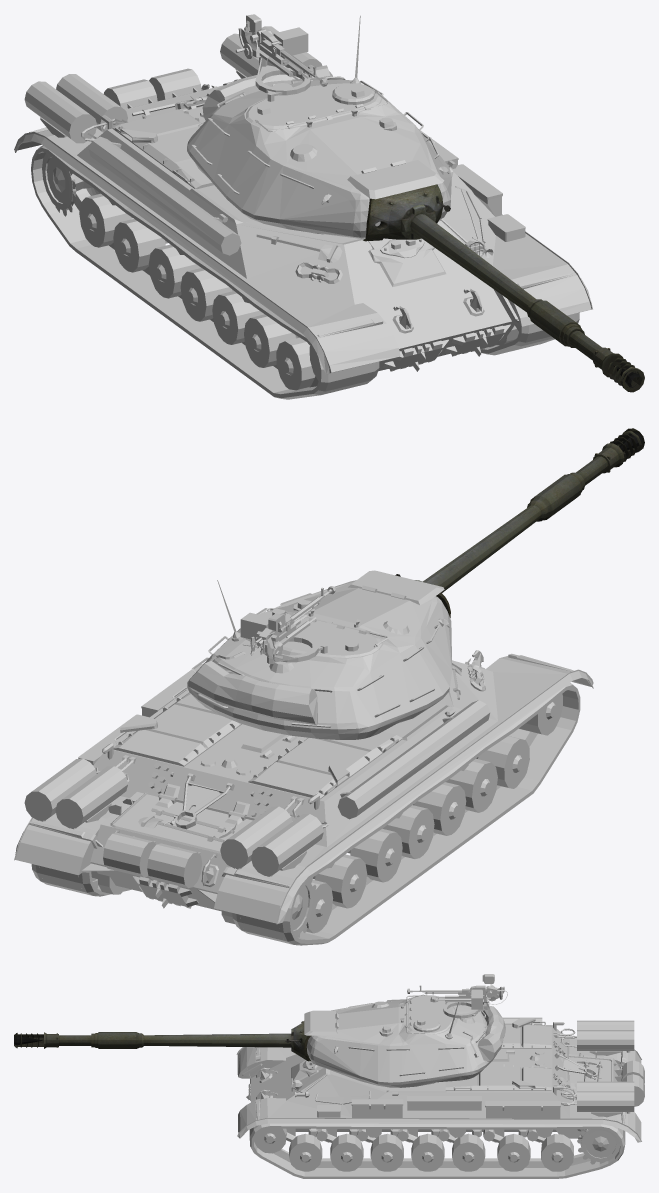
File: IS4_yedek.obj
3 views of the same model, one above another, from view 1: azimuth 30°, elevation 25°; view 2: azimuth 150°, elevation 25°; view 3: azimuth 270°, elevation 25° (orthographic). The views are drawn at different scales.
Parts seen in each view (by area): view 1: Hull_Object_1.001, Turret_Object_1.002, Wheels_Right_Object_3, Track_Right_Object_1, Gun_Object_1.003, Track_Left_Object_2; view 2: Hull_Object_1.001, Turret_Object_1.002, Wheels_Right_Object_3, Track_Right_Object_1, Gun_Object_1.003, Track_Left_Object_2; view 3: Hull_Object_1.001, Turret_Object_1.002, Wheels_Left_Object_4, Track_Left_Object_2, Gun_Object_1.003.
Part boxes in pixels (left/top/right/bottom): Hull_Object_1.001: left=14, top=26, right=592, bottom=374; Turret_Object_1.002: left=187, top=14, right=451, bottom=238; Wheels_Right_Object_3: left=42, top=153, right=319, bottom=390; Track_Right_Object_1: left=31, top=145, right=379, bottom=399; Gun_Object_1.003: left=363, top=184, right=644, bottom=392; Track_Left_Object_2: left=480, top=312, right=579, bottom=355; Hull_Object_1.001: left=14, top=650, right=593, bottom=924; Turret_Object_1.002: left=187, top=570, right=452, bottom=739; Wheels_Right_Object_3: left=240, top=694, right=562, bottom=937; Track_Right_Object_1: left=232, top=683, right=580, bottom=945; Gun_Object_1.003: left=395, top=428, right=644, bottom=617; Track_Left_Object_2: left=31, top=864, right=131, bottom=896; Hull_Object_1.001: left=236, top=1017, right=644, bottom=1142; Turret_Object_1.002: left=304, top=974, right=507, bottom=1087; Wheels_Left_Object_4: left=254, top=1128, right=620, bottom=1171; Track_Left_Object_2: left=249, top=1123, right=625, bottom=1178; Gun_Object_1.003: left=14, top=1021, right=311, bottom=1061.
Size of the model in its own units: 3.31 by 2.96 by 10.48.
